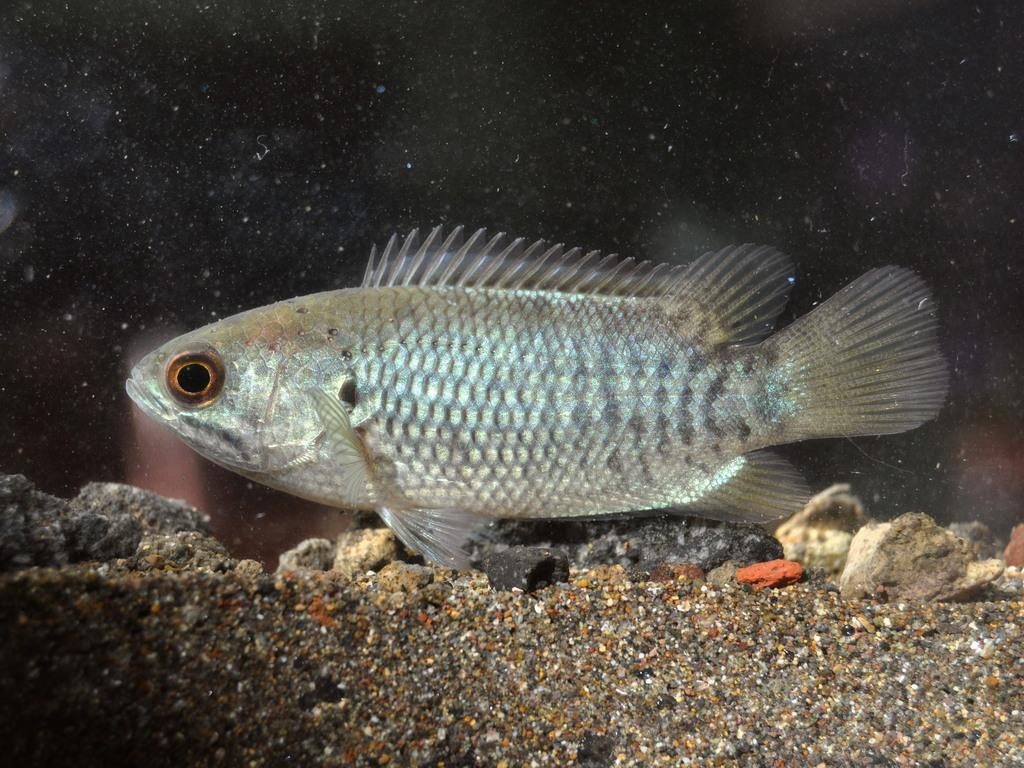Climbing Perch: (129, 224, 954, 580)
